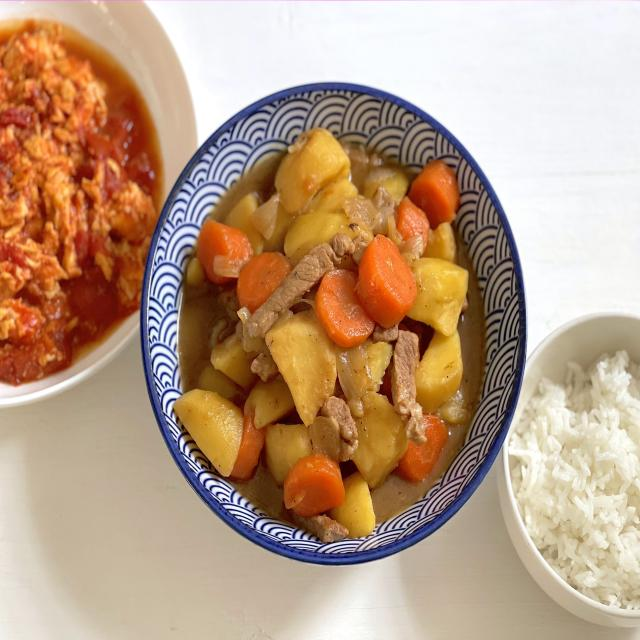Egg: (0, 21, 155, 384)
Non green veg: (314, 234, 417, 347), (198, 221, 290, 312), (395, 160, 459, 254), (285, 456, 344, 517), (396, 414, 447, 482), (230, 415, 265, 480)
Pork: (249, 234, 355, 336), (381, 326, 425, 441), (338, 401, 357, 441)
Potato: (245, 310, 337, 485), (275, 129, 358, 268), (330, 393, 408, 538), (409, 258, 468, 412), (174, 389, 243, 476), (285, 180, 357, 261), (336, 339, 392, 417), (211, 311, 266, 389), (218, 193, 280, 255), (355, 154, 410, 204)
Rice: (509, 351, 640, 610)
